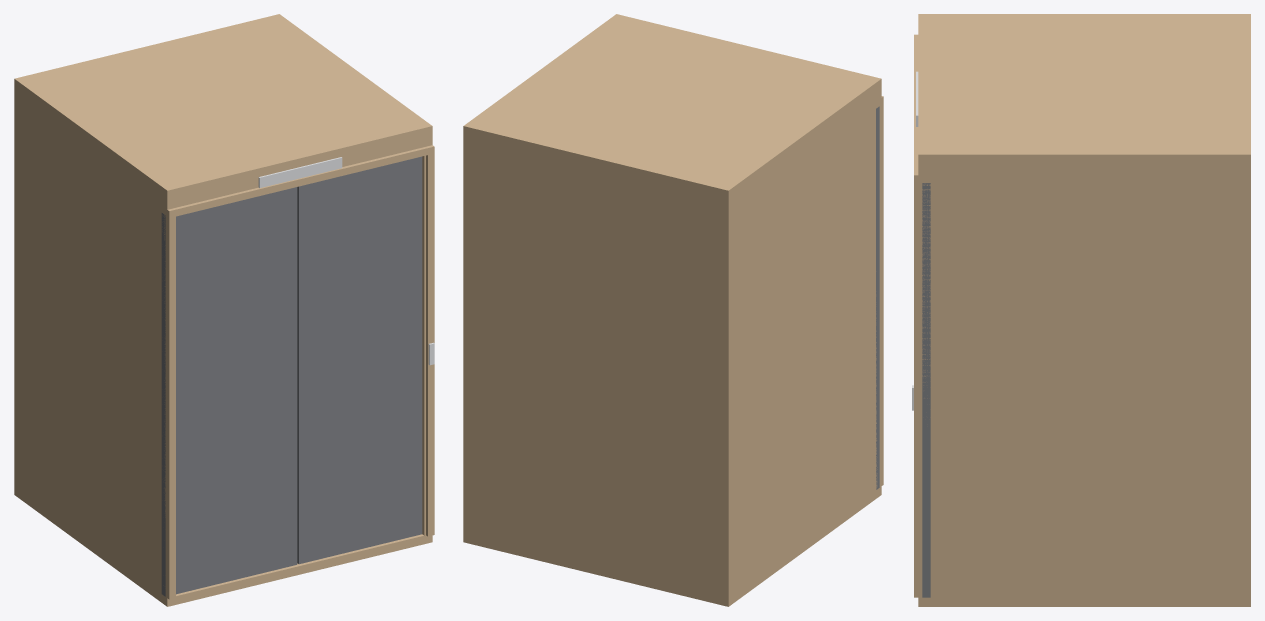
The model's file is lift.glb.
3 views of the same model, side by side, from view 1: azimuth 30°, elevation 25°; view 2: azimuth 150°, elevation 25°; view 3: azimuth 270°, elevation 25° (orthographic). The views are drawn at different scales.
Parts seen in each view (by area): view 1: lift; view 2: lift; view 3: lift.
Part boxes in pixels (<box>): lift: <box>14,14,434,606</box>; lift: <box>463,14,883,606</box>; lift: <box>912,14,1250,606</box>.
Bounding box in the file's own units: 1.6 × 2.4 × 1.63.
